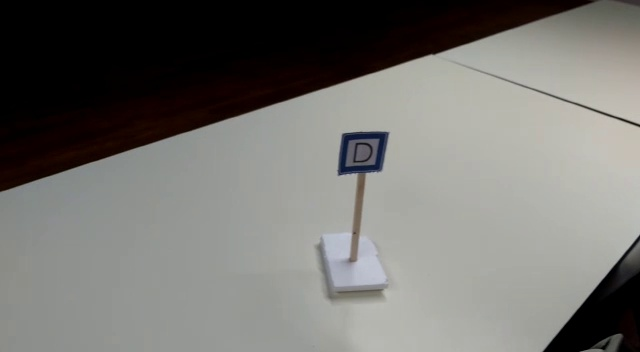durak: (338, 128, 386, 173)
